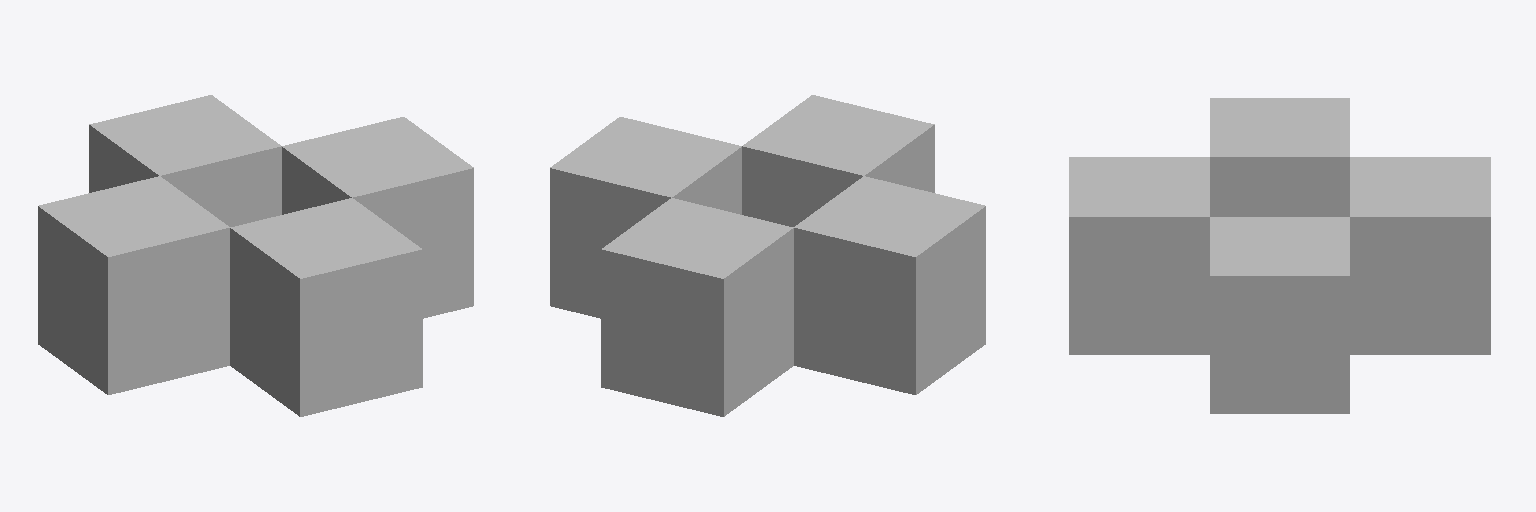
File: zoc_wwg.obj
3 renders of one model, left to right at view 1: azimuth 30°, elevation 25°; view 2: azimuth 150°, elevation 25°; view 3: azimuth 270°, elevation 25°, orthographic.
Visible parts, largest first — view 1: front_Box001.001, left_Box001.003, right_Box001.004, back_Box001.002; view 2: back_Box001.002, left_Box001.003, right_Box001.004, front_Box001.001; view 3: front_Box001.001, back_Box001.002, right_Box001.004, left_Box001.003.
Part boxes in pixels (left/top/right/bottom): front_Box001.001: left=230, top=198, right=422, bottom=416; left_Box001.003: left=38, top=176, right=229, bottom=394; right_Box001.004: left=282, top=117, right=473, bottom=318; back_Box001.002: left=89, top=95, right=281, bottom=226; back_Box001.002: left=601, top=198, right=793, bottom=416; left_Box001.003: left=794, top=176, right=985, bottom=394; right_Box001.004: left=550, top=117, right=741, bottom=318; front_Box001.001: left=742, top=95, right=934, bottom=226; front_Box001.001: left=1069, top=157, right=1209, bottom=354; back_Box001.002: left=1350, top=157, right=1490, bottom=354; right_Box001.004: left=1210, top=217, right=1349, bottom=413; left_Box001.003: left=1210, top=98, right=1349, bottom=216.
Size of the model in its own units: 4.71 by 1.7 by 4.71.